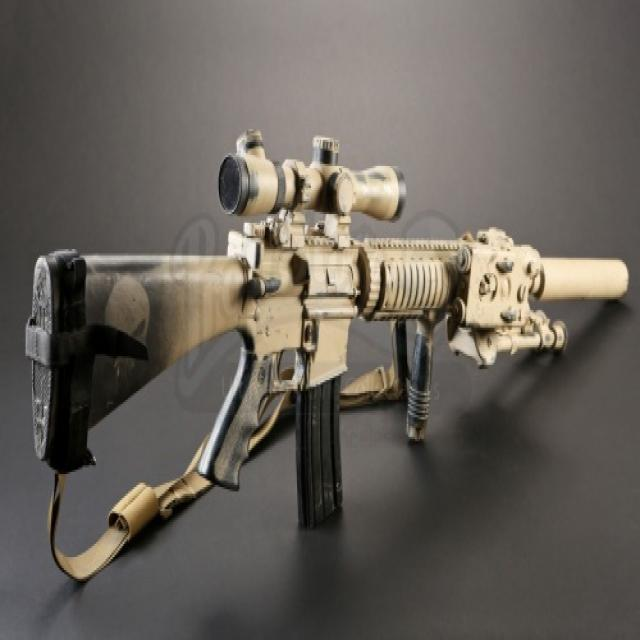rifle: (25, 106, 640, 548)
